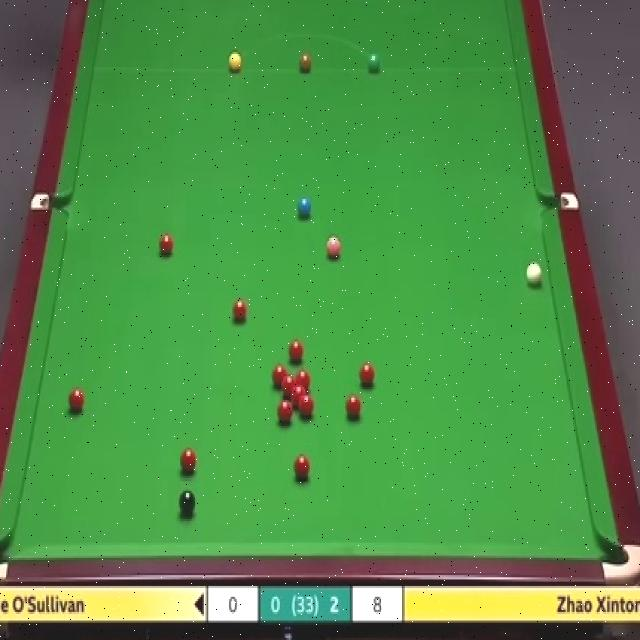black-ball: (178, 491, 196, 520)
blue-ball: (297, 194, 312, 220)
brown-ball: (299, 50, 312, 73)
green-ball: (366, 54, 381, 75)
pink-ball: (326, 235, 342, 259)
red-ball: (344, 393, 363, 423), (358, 360, 377, 390), (68, 385, 85, 414), (294, 452, 310, 482), (230, 296, 247, 324), (180, 448, 198, 473), (288, 339, 304, 366), (277, 398, 292, 426), (299, 394, 314, 418), (272, 364, 286, 388), (159, 232, 173, 255), (296, 370, 310, 391), (282, 375, 296, 395), (292, 386, 306, 406)
white-ball: (524, 256, 546, 290)
yellow-ball: (228, 52, 242, 74)
